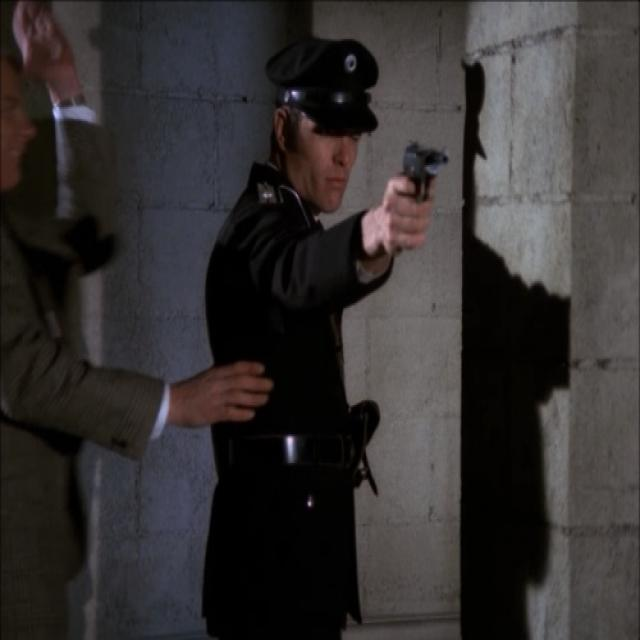weapons: (386, 127, 455, 255)
